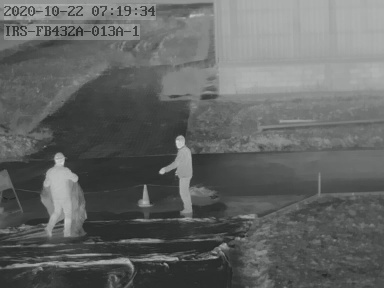person: (43, 151, 78, 237), (159, 135, 193, 214)
